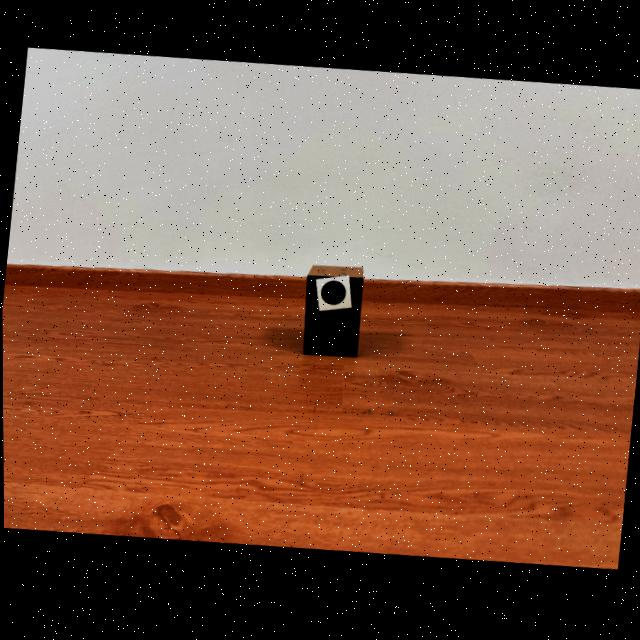CIRCLE: (320, 283, 345, 307)
